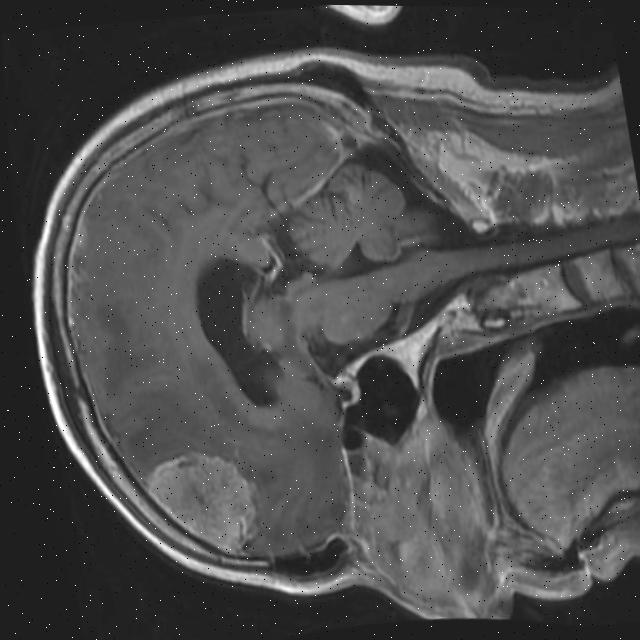Meningioma: (139, 440, 270, 565)
